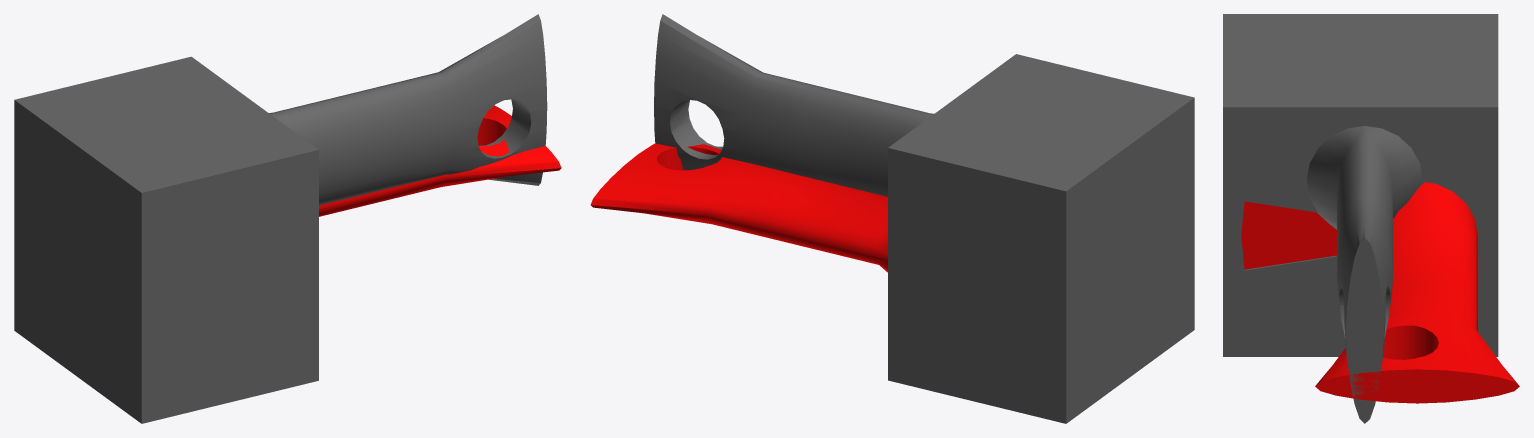
The model's file is btn_key.FBX.
3 views of the same model, side by side, from view 1: azimuth 30°, elevation 25°; view 2: azimuth 150°, elevation 25°; view 3: azimuth 270°, elevation 25° (orthographic). The views are drawn at different scales.
Visible parts, largest first — view 1: btn_CASE, btn_OFF, btn_ON; view 2: btn_CASE, btn_OFF, btn_ON; view 3: btn_CASE, btn_ON, btn_OFF.
Boxes of the visible parts, x1,y1,x2,y2 form: btn_CASE: (14,56,318,423); btn_OFF: (269,14,547,205); btn_ON: (319,105,561,216); btn_CASE: (888,54,1194,423); btn_OFF: (654,14,933,196); btn_ON: (590,143,887,272); btn_CASE: (1223,14,1498,356); btn_ON: (1241,182,1519,403); btn_OFF: (1306,126,1423,423).
Size of the model in its own units: 82.5 by 42.47 by 42.47.
